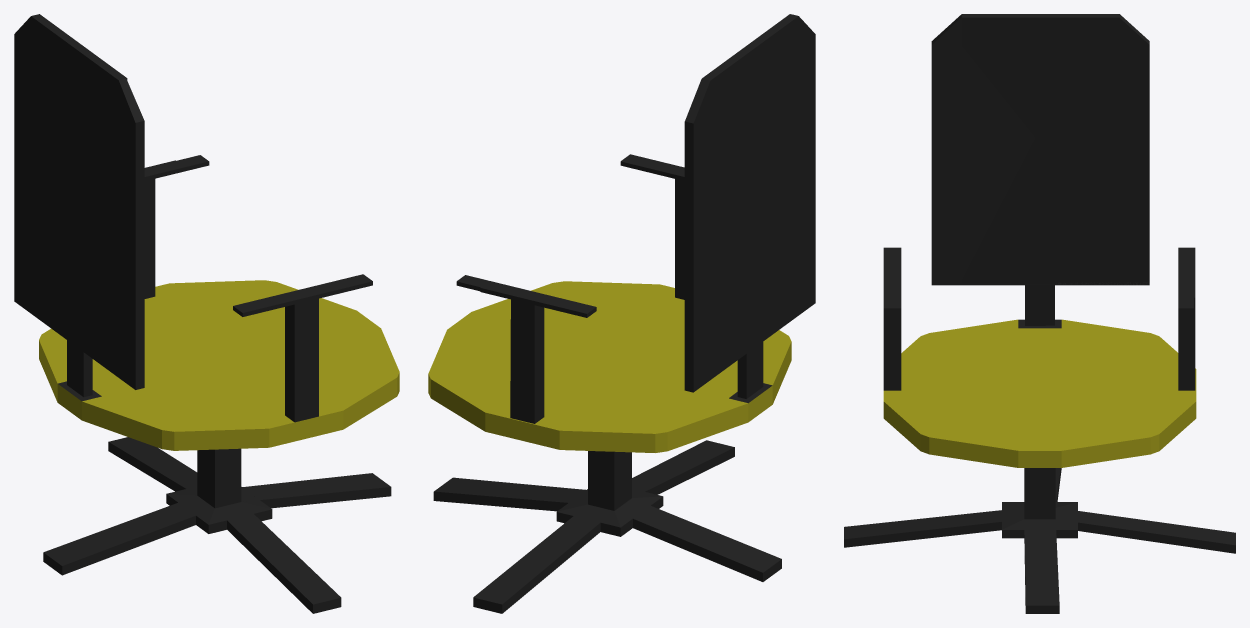
File: Office Chair-yellow.glb
The picture shows the model from 3 angles, left to right: view 1: azimuth 30°, elevation 25°; view 2: azimuth 150°, elevation 25°; view 3: azimuth 270°, elevation 25°; orthographic projection. The views are drawn at different scales.
Parts seen in each view (by area): view 1: Cube; view 2: Cube; view 3: Cube.
Boxes of the visible parts, bbox=[...] form: Cube: bbox=[14, 14, 399, 613]; Cube: bbox=[428, 14, 815, 613]; Cube: bbox=[844, 14, 1235, 613].
Bounding box in the file's own units: 1.74 × 2.62 × 2.
